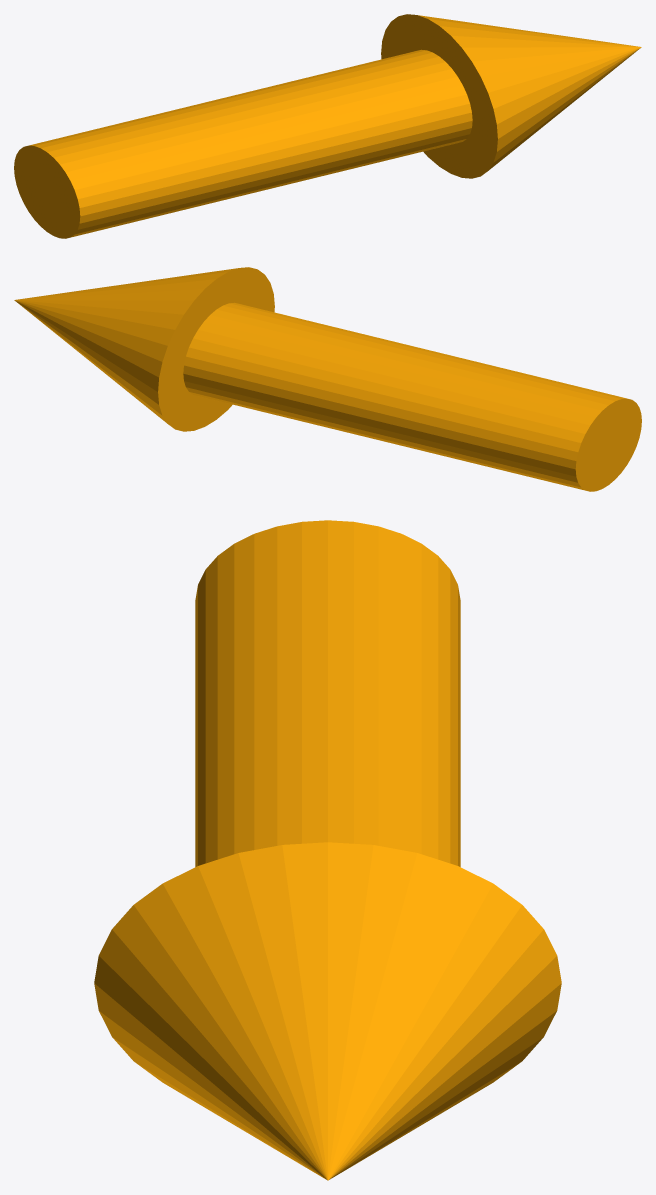
File: solid_arrow.glb
3 views of the same model, one above another, from view 1: azimuth 30°, elevation 25°; view 2: azimuth 150°, elevation 25°; view 3: azimuth 270°, elevation 25° (orthographic). The views are drawn at different scales.
Visible parts, largest first — view 1: arrow; view 2: arrow; view 3: arrow.
Boxes of the visible parts, bbox=[...] form: arrow: bbox=[14, 14, 641, 238]; arrow: bbox=[14, 267, 641, 491]; arrow: bbox=[94, 520, 561, 1180].
Bounding box in the file's own units: 8.78 × 1.99 × 2.99.
